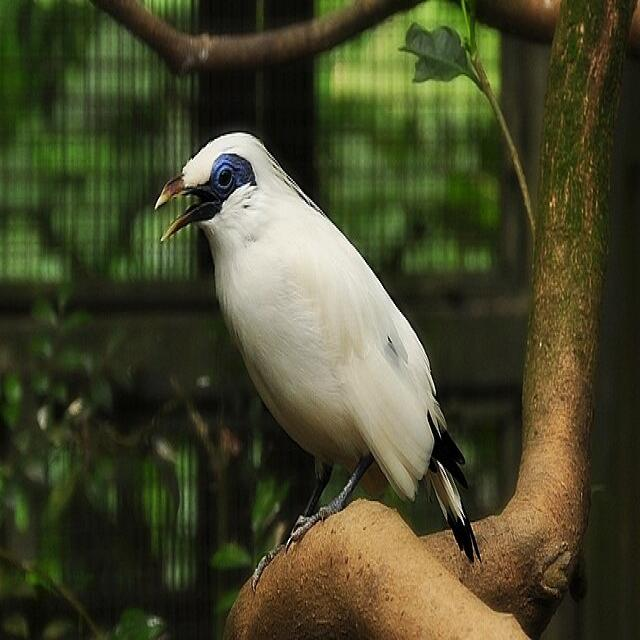Jalak Bali: (138, 109, 497, 598)
